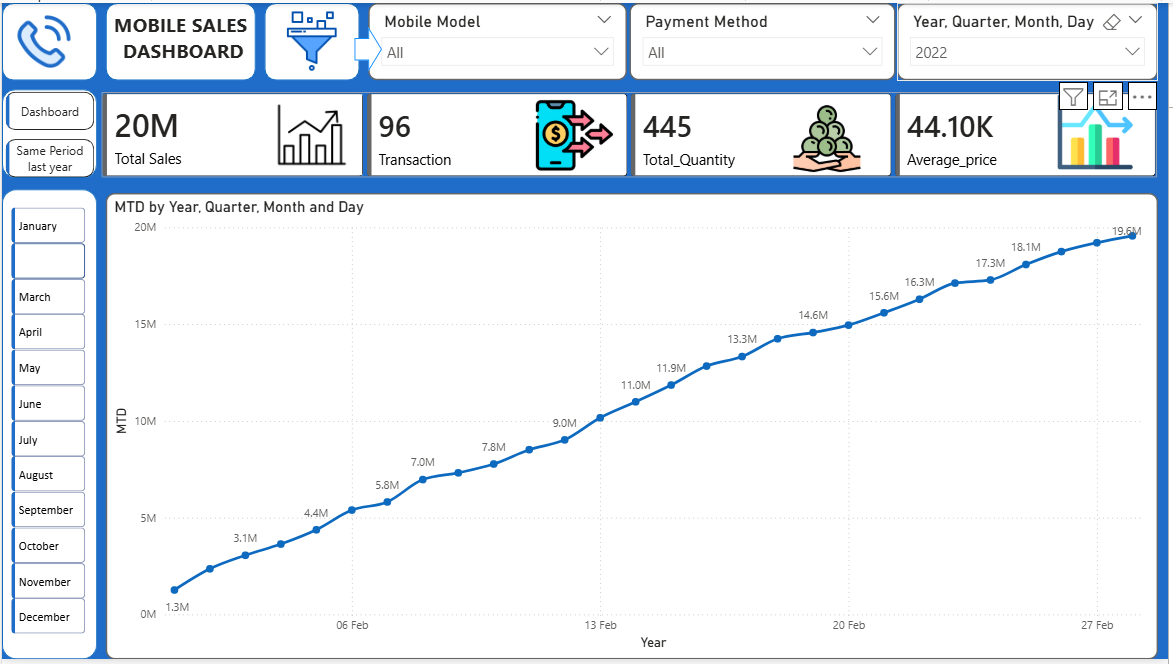

Layout of this report page (visuals, bound fields, positions):
{"tool":"powerbi","page":{"name":"MTD Dashboard","canvas":[1280,720],"ordinal":1},"visuals":[{"type":"shape","box":[0,0,104.3,85.1],"z":0},{"type":"image","box":[13.7,0,64.5,85.1],"z":1000},{"type":"shape","box":[0,94.7,104.3,97.4],"z":2000},{"type":"shape","box":[0,204.5,104.3,516],"z":3000},{"type":"advancedSlicerVisual","fields":{"Values":["Custom_calender.Date.Variation.Date Hierarchy.Month"]},"box":[5.5,204.5,91.9,516],"z":4000},{"type":"cardVisual","fields":{"Data":["Cell_phone_data.Total_sales_overall","Cell_phone_data.Transaction","Cell_phone_data.Total_Quantity","Cell_phone_data.Average_price"]},"box":[97.4,81,1182.9,127.6],"z":5000},{"type":"image","box":[263.5,97.4,153.7,94.7],"z":6000},{"type":"image","box":[551.6,102.9,153.7,85.1],"z":7000},{"type":"image","box":[828.8,109.8,153.7,78.2],"z":8000},{"type":"image","box":[1119.7,100.2,160.5,82.3],"z":9000},{"type":"slicer","fields":{"Values":["Cell_phone_data.Mobile Model"]},"box":[402.1,0,284,85.1],"z":10000},{"type":"slicer","fields":{"Values":["Cell_phone_data.Payment Method"]},"box":[688.9,0,292.3,85.1],"z":11000},{"type":"slicer","fields":{"Values":["Custom_calender.Date.Variation.Date Hierarchy.Year","Custom_calender.Date.Variation.Date Hierarchy.Quarter","Custom_calender.Date.Variation.Date Hierarchy.Month","Custom_calender.Date.Variation.Date Hierarchy.Day"]},"box":[982.5,0,286.8,85.1],"z":12000},{"type":"shape","box":[288.2,0,104.3,85.1],"z":13000},{"type":"shape","box":[113.9,0,164.7,85.1],"z":14000},{"type":"image","box":[293.7,8.2,93.3,67.2],"z":15000},{"type":"shape","box":[387,26.1,30.2,49.4],"z":16000},{"type":"textbox","box":[113.9,4.1,164.7,75.5],"z":17000},{"type":"lineChart","fields":{"Y":["Cell_phone_data.MTD"],"Category":["Custom_calender.Date.Variation.Date Hierarchy.Year","Custom_calender.Date.Variation.Date Hierarchy.Quarter","Custom_calender.Date.Variation.Date Hierarchy.Month","Custom_calender.Date.Variation.Date Hierarchy.Day"]},"box":[113.9,208.6,1155.4,511.8],"z":18000},{"type":"pageNavigator","box":[4.1,97.4,97.4,94.7],"z":19000}]}

Visuals, with their boxes in screenshot pixels (x1, y1, x2, y2), scaled from the page's 1280x720 canvas onto the 1173x664 screenshot:
shape: box=[0, 0, 96, 78]
image: box=[13, 0, 72, 78]
shape: box=[0, 87, 96, 177]
shape: box=[0, 189, 96, 663]
advancedSlicerVisual - Custom_calender.Date.Variation.Date Hierarchy.Month: box=[5, 189, 89, 663]
cardVisual - Cell_phone_data.Total_sales_overall x Cell_phone_data.Transaction: box=[89, 75, 1172, 192]
image: box=[241, 90, 382, 177]
image: box=[505, 95, 646, 173]
image: box=[760, 101, 900, 173]
image: box=[1026, 92, 1172, 168]
slicer - Cell_phone_data.Mobile Model: box=[368, 0, 629, 78]
slicer - Cell_phone_data.Payment Method: box=[631, 0, 899, 78]
slicer - Custom_calender.Date.Variation.Date Hierarchy.Year x Custom_calender.Date.Variation.Date Hierarchy.Quarter: box=[900, 0, 1163, 78]
shape: box=[264, 0, 360, 78]
shape: box=[104, 0, 255, 78]
image: box=[269, 8, 355, 70]
shape: box=[355, 24, 382, 70]
textbox: box=[104, 4, 255, 73]
lineChart - Cell_phone_data.MTD x Custom_calender.Date.Variation.Date Hierarchy.Year: box=[104, 192, 1163, 663]
pageNavigator: box=[4, 90, 93, 177]
